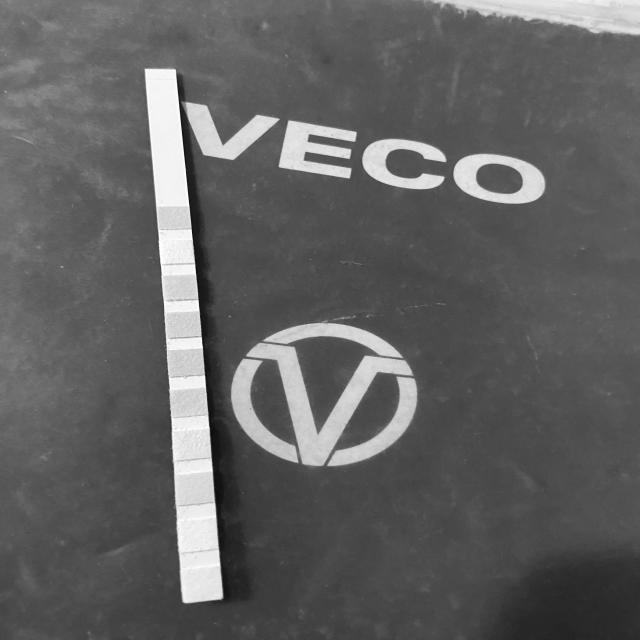Bilirubin: (161, 242, 194, 264)
Blood: (170, 351, 203, 375)
Glucose: (158, 207, 189, 228)
Ketone: (164, 276, 197, 298)
Leukocytes: (183, 570, 221, 600)
Nitrite: (179, 521, 216, 548)
Protein: (174, 432, 209, 458)
SpGravity: (167, 313, 200, 337)
Urobilinogen: (177, 475, 213, 502)
background: (0, 0, 640, 640)
pH: (172, 390, 206, 414)
strip: (145, 70, 223, 604)
